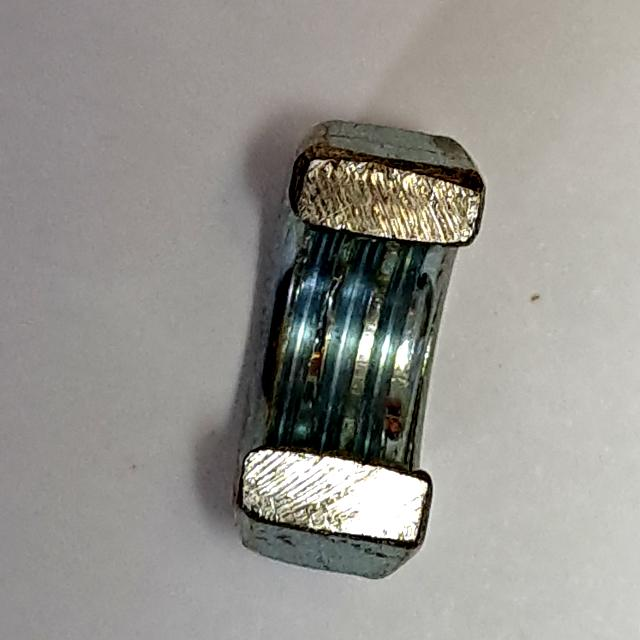Side-Fracture: (218, 109, 491, 587)
